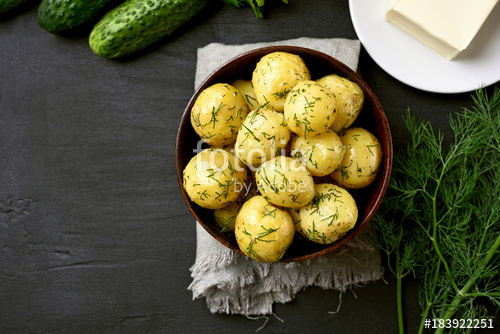boiled potatoes: (183, 57, 385, 259)
